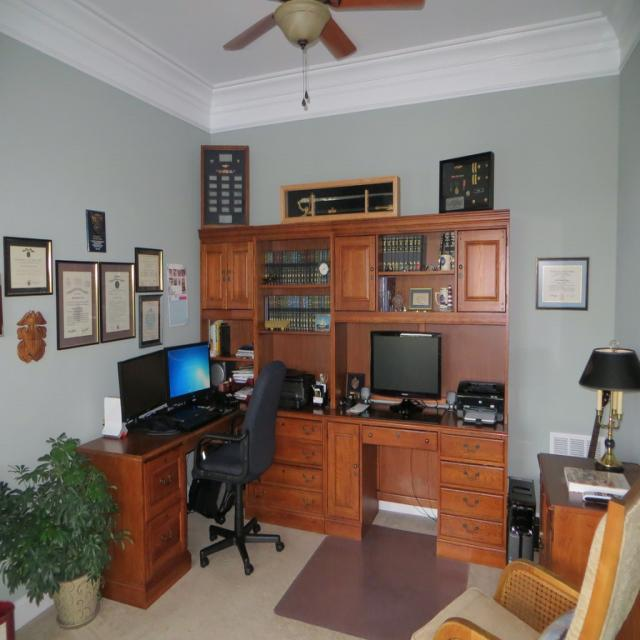Bulb: (222, 0, 425, 108)
